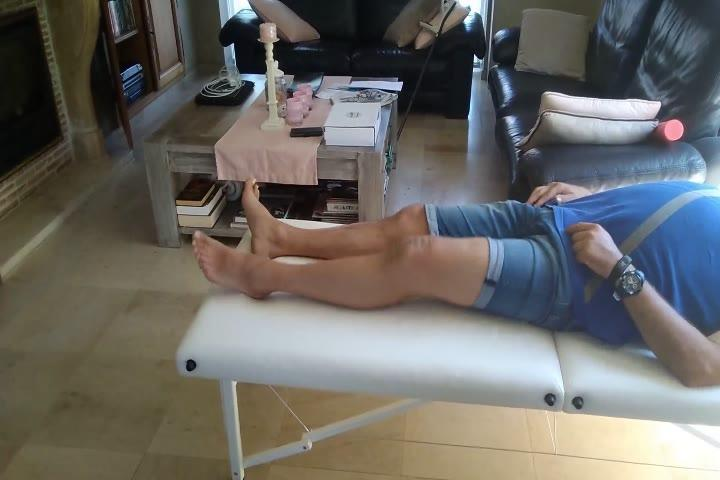lowerbody: (181, 165, 599, 340)
